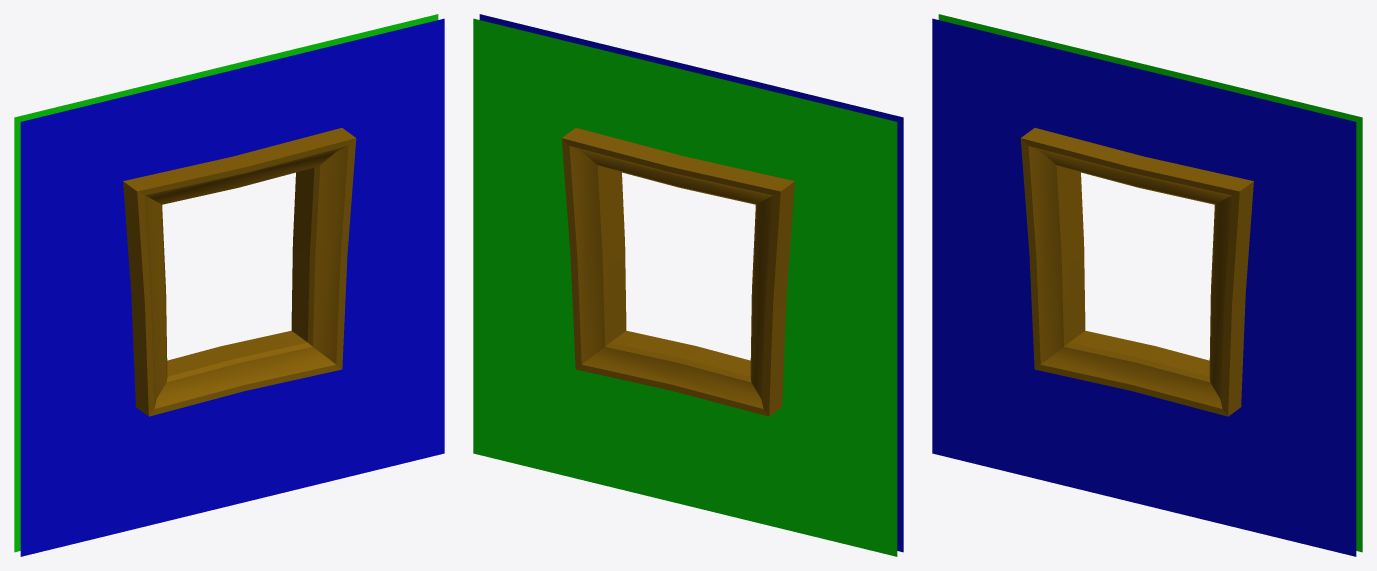
File: paredventana.fbx
The picture shows the model from 3 angles, left to right: view 1: azimuth 30°, elevation 25°; view 2: azimuth 150°, elevation 25°; view 3: azimuth 330°, elevation 25°; orthographic projection.
Visible parts, largest first — view 1: paredventana; view 2: paredventana; view 3: paredventana.
Part boxes in pixels (<box>): paredventana: <box>14,14,444,556</box>; paredventana: <box>473,14,903,556</box>; paredventana: <box>932,14,1362,556</box>.
Bounding box in the file's own units: 265 × 260 × 37.38.
